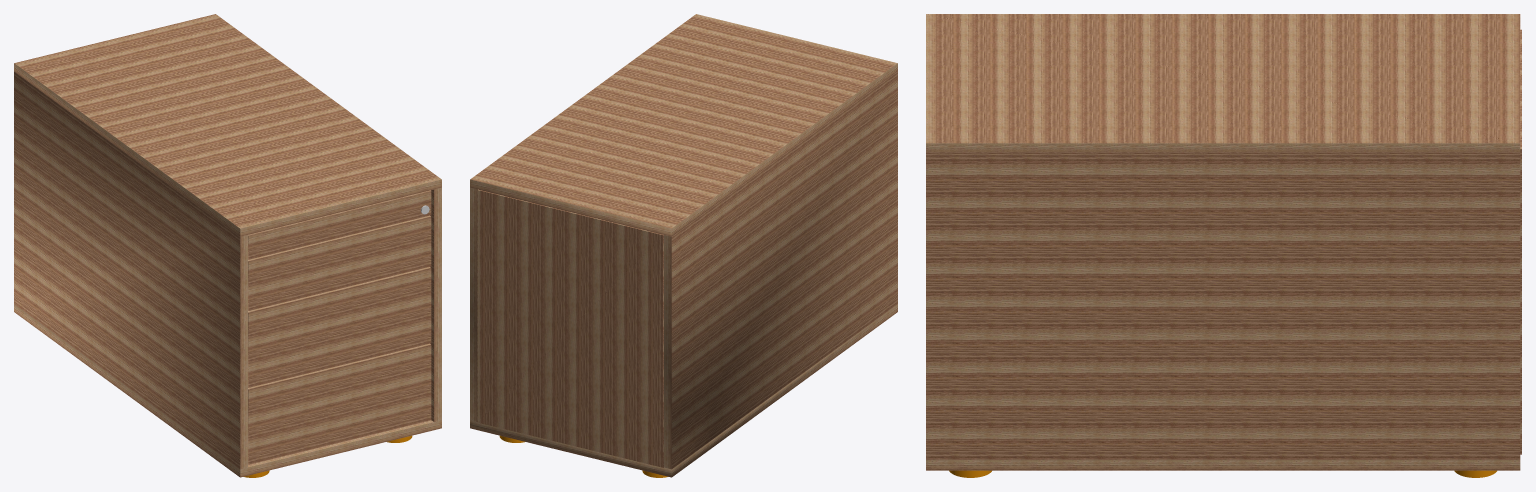
File: Desk_Addon_bez_handli_FINAL.fbx
3 views of the same model, side by side, from view 1: azimuth 30°, elevation 25°; view 2: azimuth 150°, elevation 25°; view 3: azimuth 270°, elevation 25° (orthographic). The views are drawn at different scales.
Visible parts, largest first — view 1: drewno1; view 2: drewno1; view 3: drewno1.
Boxes of the visible parts, bbox=[...] form: drewno1: bbox=[14, 14, 441, 477]; drewno1: bbox=[470, 14, 897, 477]; drewno1: bbox=[926, 14, 1521, 470].
Bounding box in the file's own units: 1.05 × 1.3 × 2.04.
